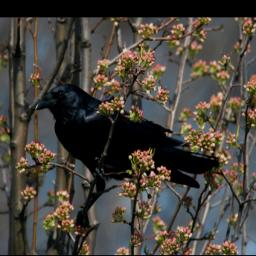Crow: (28, 79, 216, 225)
